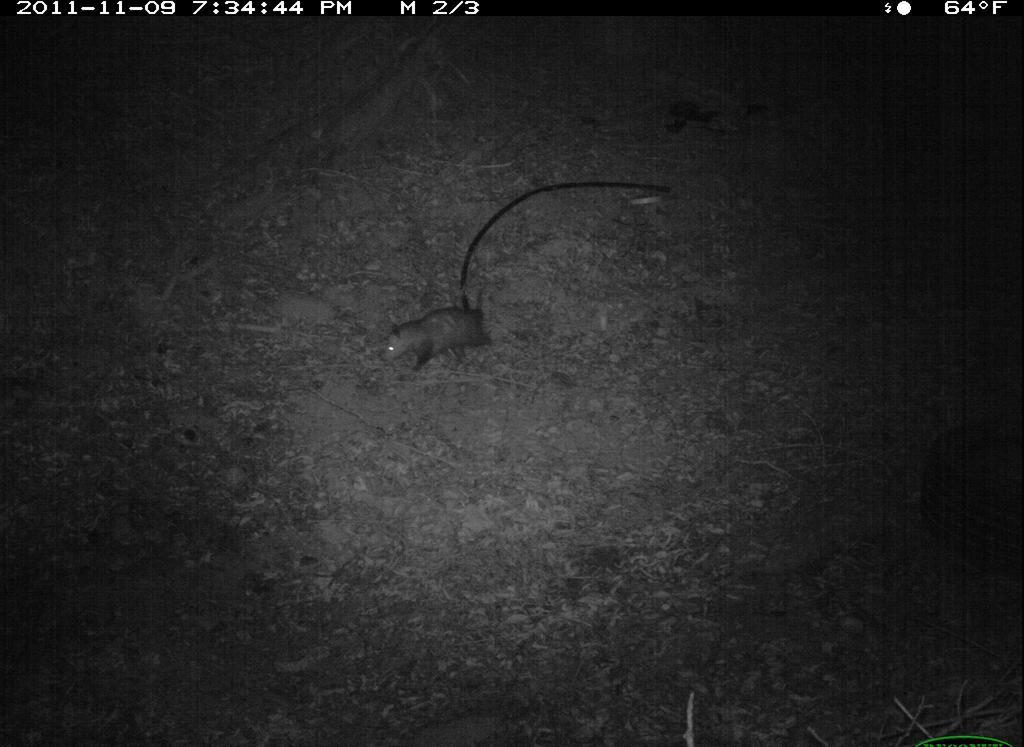opossum: (378, 291, 509, 386)
